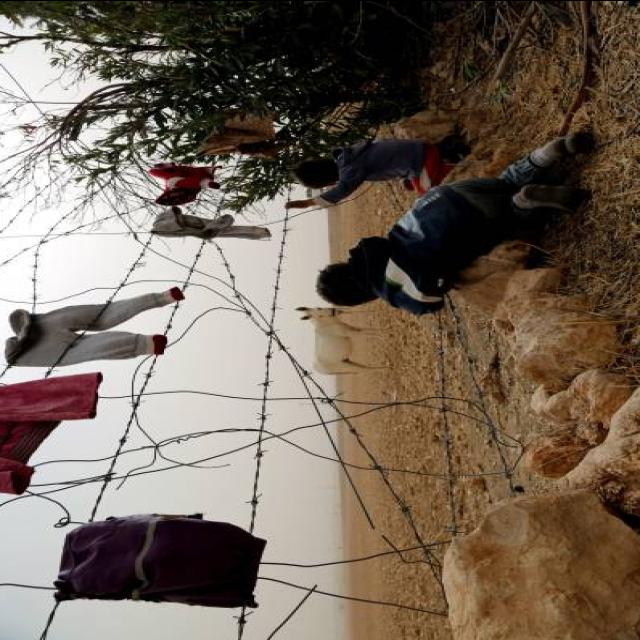civilian: (317, 133, 589, 315), (286, 135, 468, 208)
